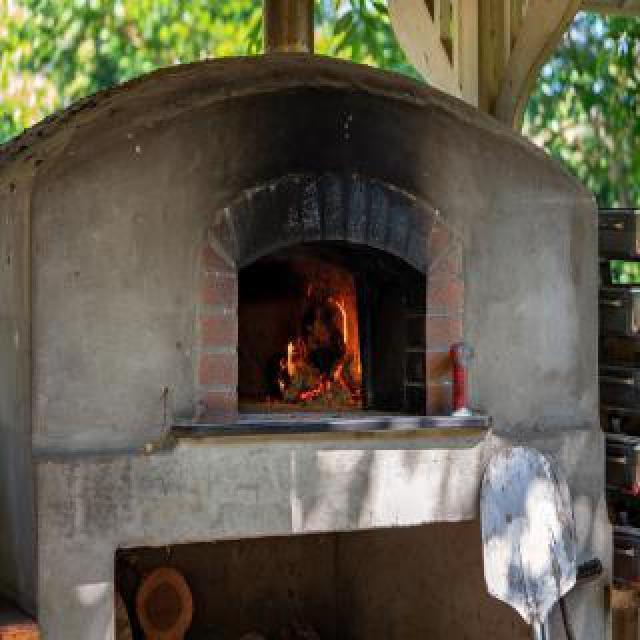Fire: (270, 262, 364, 402)
